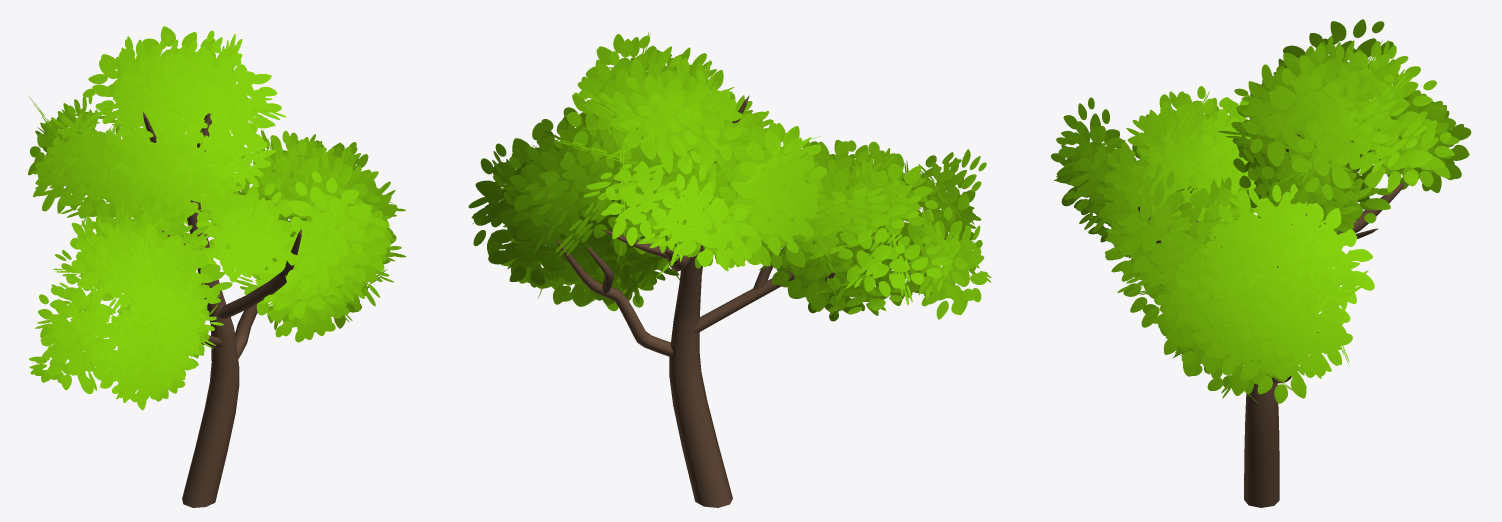
Rendered from NormalTree_5.glb.
3 renders of one model, left to right at view 1: azimuth 30°, elevation 25°; view 2: azimuth 150°, elevation 25°; view 3: azimuth 270°, elevation 25°, orthographic. The views are drawn at different scales.
Visible parts, largest first — view 1: NormalTree_5; view 2: NormalTree_5; view 3: NormalTree_5.
Boxes of the visible parts, box(x1,y1,x2,y2) form: NormalTree_5: box(28, 26, 406, 507); NormalTree_5: box(468, 32, 991, 507); NormalTree_5: box(1051, 19, 1471, 507).
Bounding box in the file's own units: 3.1 × 2.98 × 2.57.
Materials: 2 (1 with a texture image).
